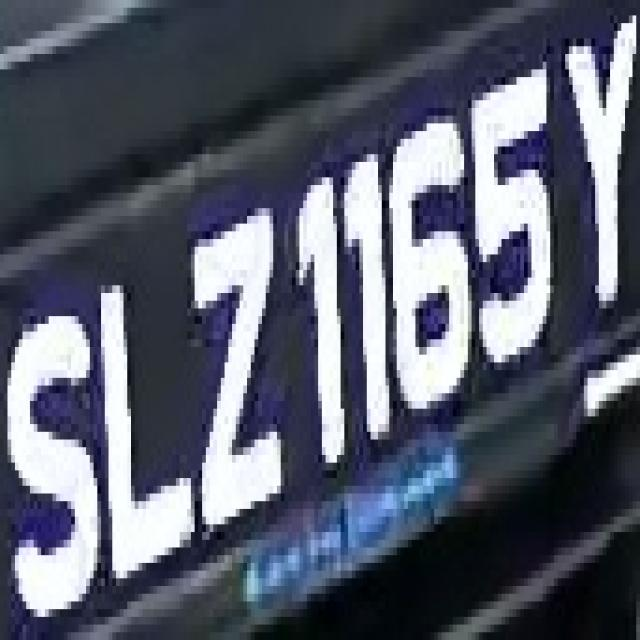1: (337, 131, 397, 470), (299, 162, 352, 486)
5: (457, 54, 558, 386)
6: (385, 116, 483, 455)
L: (86, 270, 206, 601)
S: (4, 301, 105, 632)
Y: (557, 15, 640, 339)
Z: (172, 185, 303, 548)
